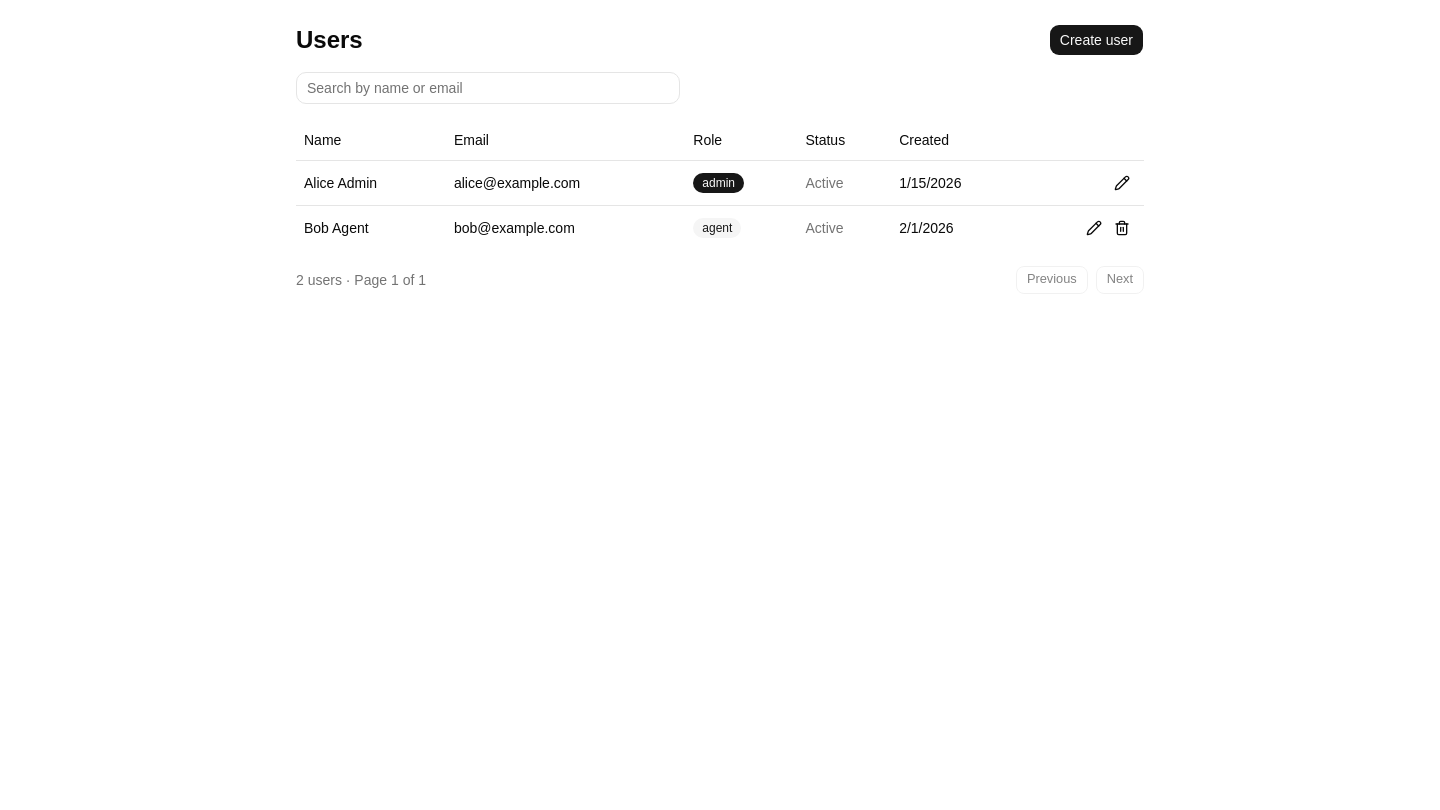
Test: UsersPage › edit user dialog › opens populated with the row's user, with an empty password
Expected: the text "Bob Agent" is shown, [296,205,446,250]
What coordinates should you click on to do the following:
click the button named "Edit Bob Agent"
I would click on:
 (1094, 228)
Its box is [1080,214,1108,242].
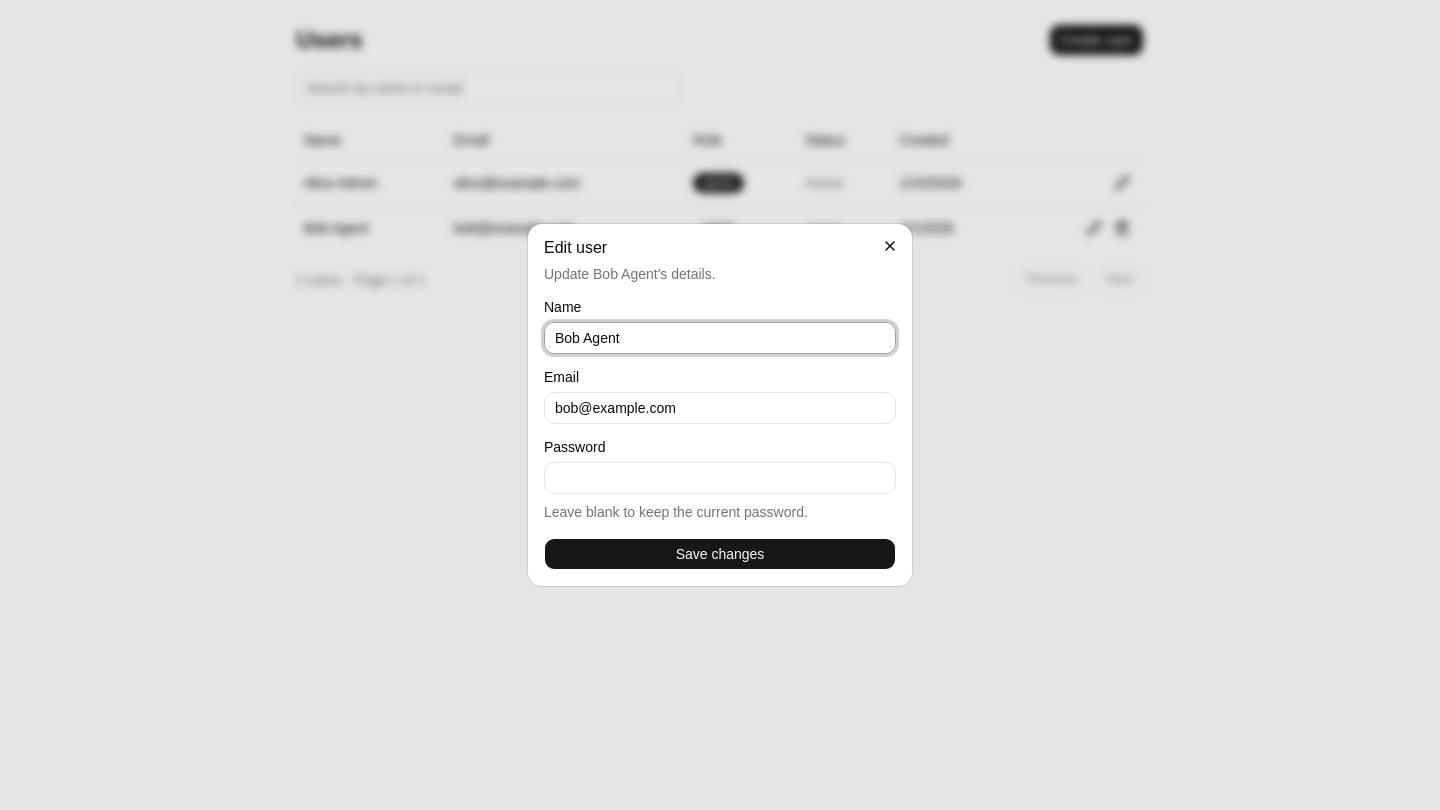
Expected: the password field labelled "Password" is empty, [544,462,896,494]
Expected: the field labelled "Name" holds "Bob Agent", [544,322,896,354]
Expected: the field labelled "Email" holds "bob@example.com", [544,392,896,424]
